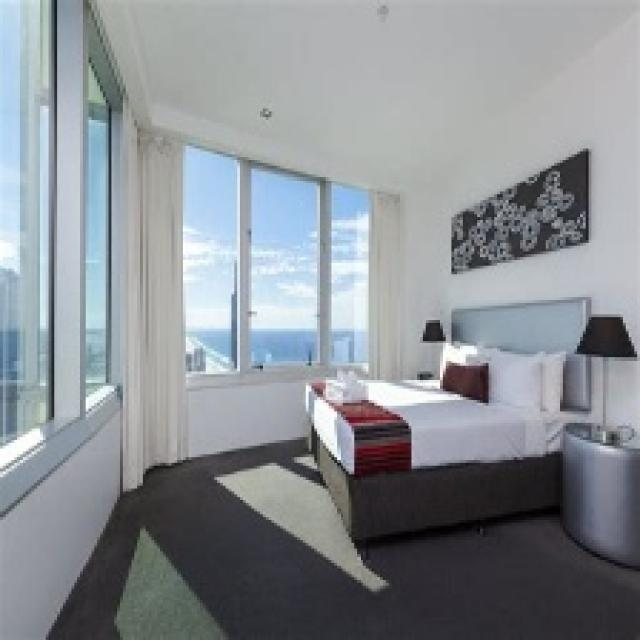Bed: (303, 294, 591, 549)
